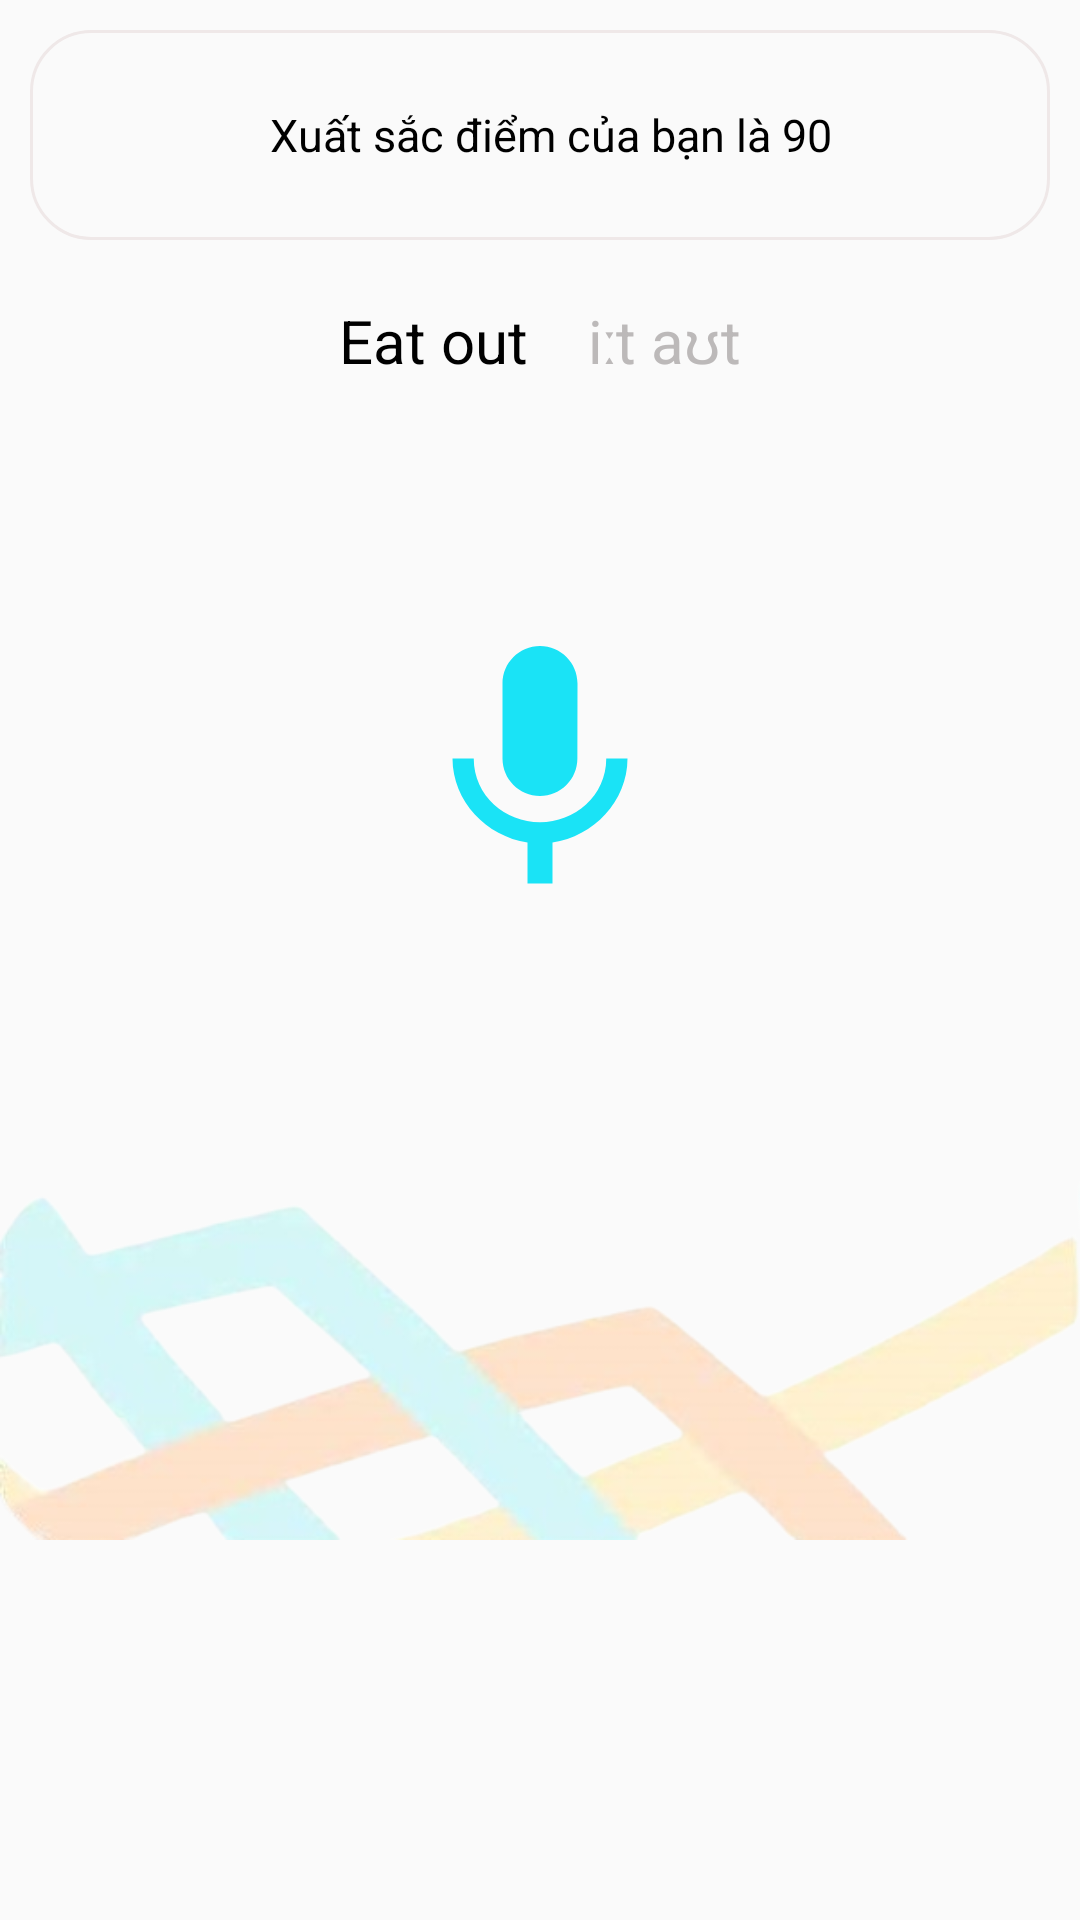

Icons on this 1080×1920 Android screen, each with the point to tap as point (x, y):
mic: point (540, 765)
